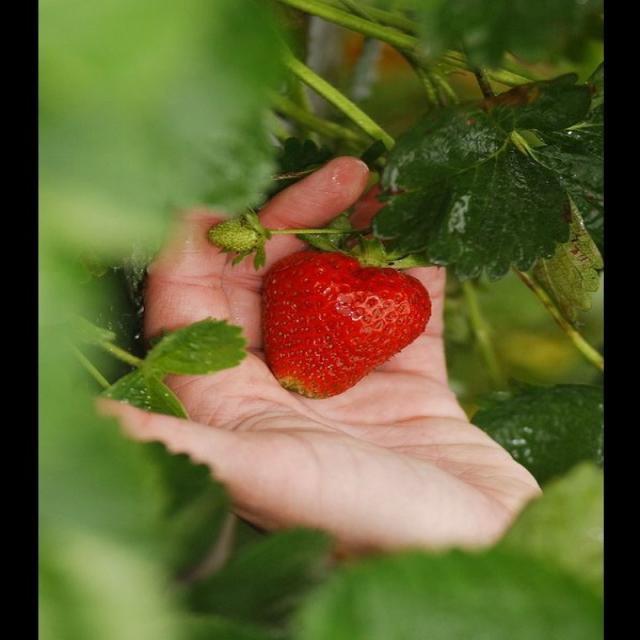strawberry: (226, 184, 460, 443)
